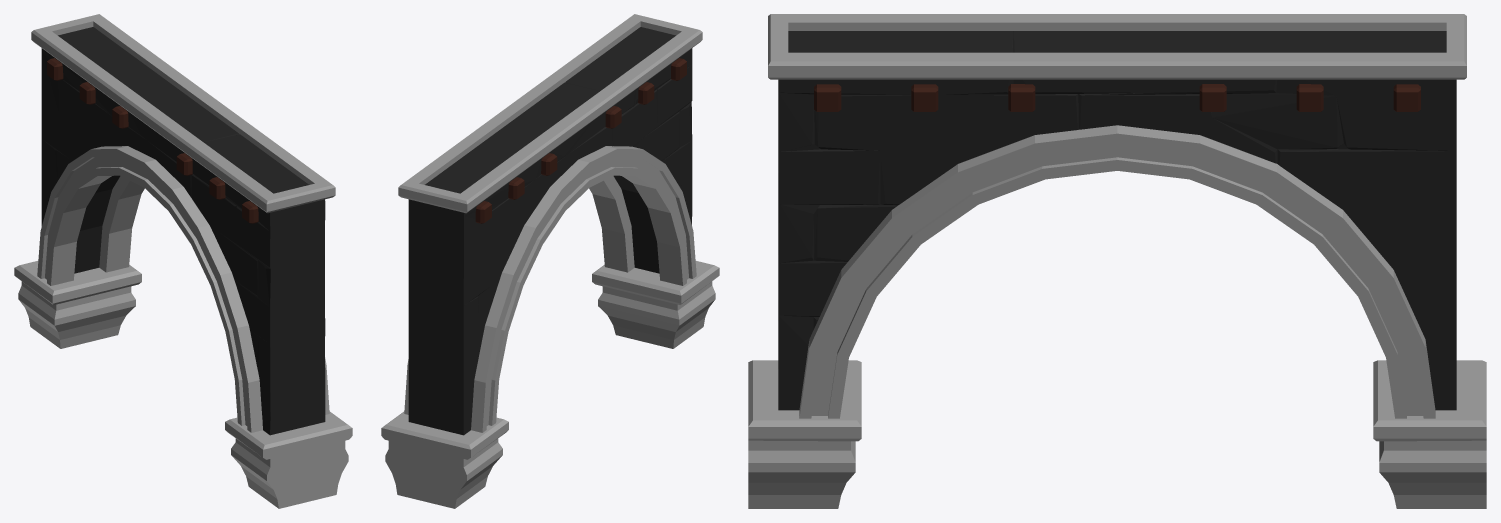
The model's file is civilian_bridge_3_b.FBX.
3 views of the same model, side by side, from view 1: azimuth 30°, elevation 25°; view 2: azimuth 150°, elevation 25°; view 3: azimuth 270°, elevation 25° (orthographic). The views are drawn at different scales.
Visible parts, largest first — view 1: civilian_bridge_3_b; view 2: civilian_bridge_3_b; view 3: civilian_bridge_3_b.
Boxes of the visible parts, <box> form: civilian_bridge_3_b: <box>14,14,352,508</box>; civilian_bridge_3_b: <box>381,14,719,508</box>; civilian_bridge_3_b: <box>748,14,1486,508</box>.
Size of the model in its own units: 226 by 732 by 1088.
